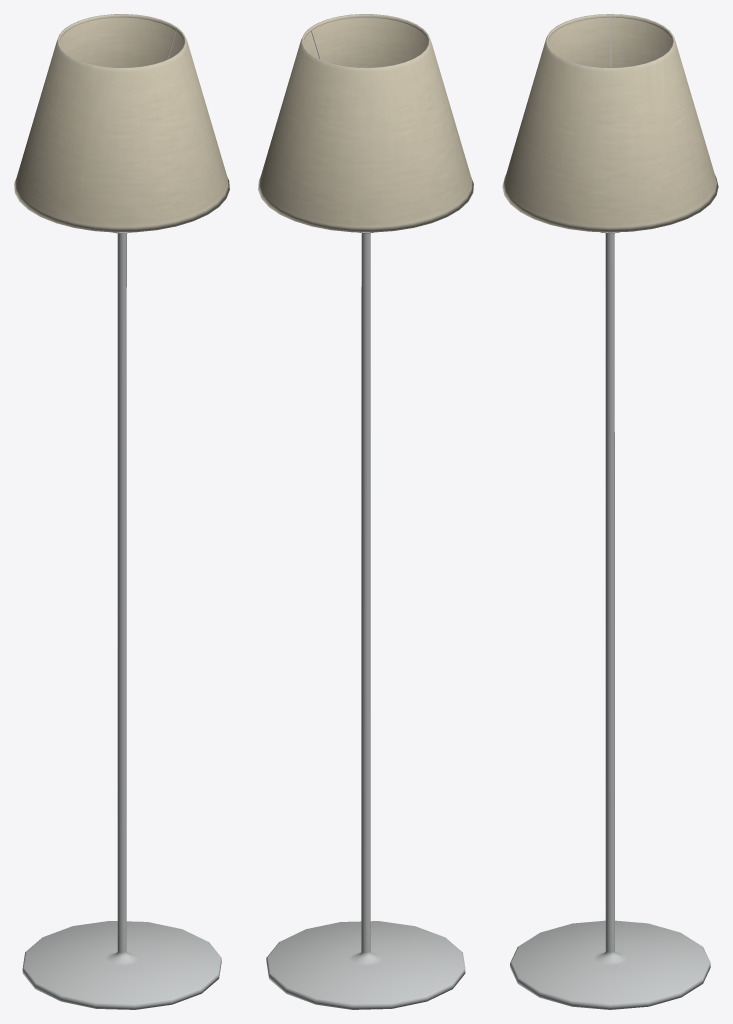
File: lamp_floor.obj
3 renders of one model, left to right at view 1: azimuth 30°, elevation 25°; view 2: azimuth 150°, elevation 25°; view 3: azimuth 270°, elevation 25°, orthographic.
Visible parts, largest first — view 1: lamp_floor_01; view 2: lamp_floor_01; view 3: lamp_floor_01.
Boxes of the visible parts, left/top/right/bottom form: lamp_floor_01: left=14, top=14, right=229, bottom=1009; lamp_floor_01: left=258, top=14, right=473, bottom=1009; lamp_floor_01: left=502, top=14, right=718, bottom=1009.
Size of the model in its own units: 0.3257 by 1.54 by 0.3257.
1 material, 1 textured.
